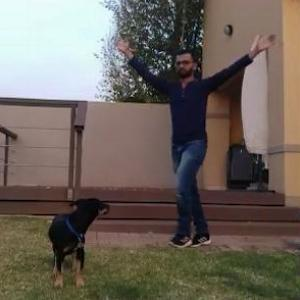takeoff: (108, 33, 279, 250)
